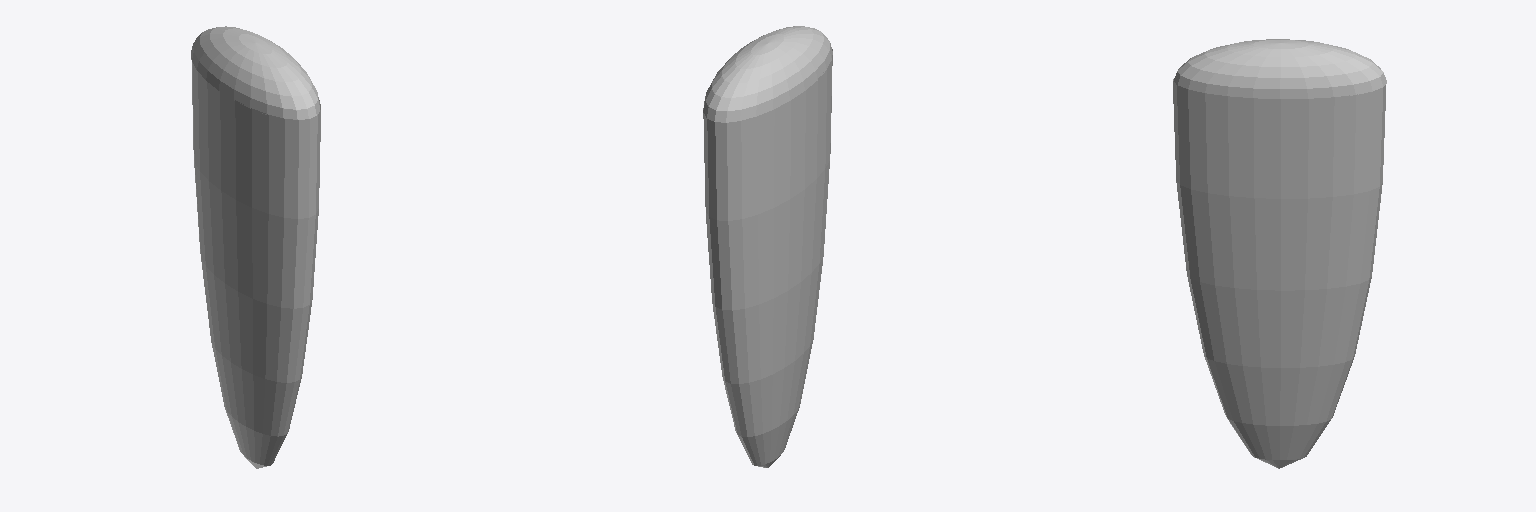
Rendered from Dublesky3.obj.
3 renders of one model, left to right at view 1: azimuth 30°, elevation 25°; view 2: azimuth 150°, elevation 25°; view 3: azimuth 270°, elevation 25°, orthographic.
Parts seen in each view (by area): view 1: default, default.001; view 2: default, default.001; view 3: default, default.001.
Part boxes in pixels (x1,y1,x2,y2): default: (191, 59, 320, 468); default.001: (191, 26, 319, 119); default: (703, 49, 832, 467); default.001: (703, 26, 832, 122); default: (1173, 79, 1385, 468); default.001: (1174, 39, 1386, 98).
Bounding box in the file's own units: 394 × 2158 × 986.